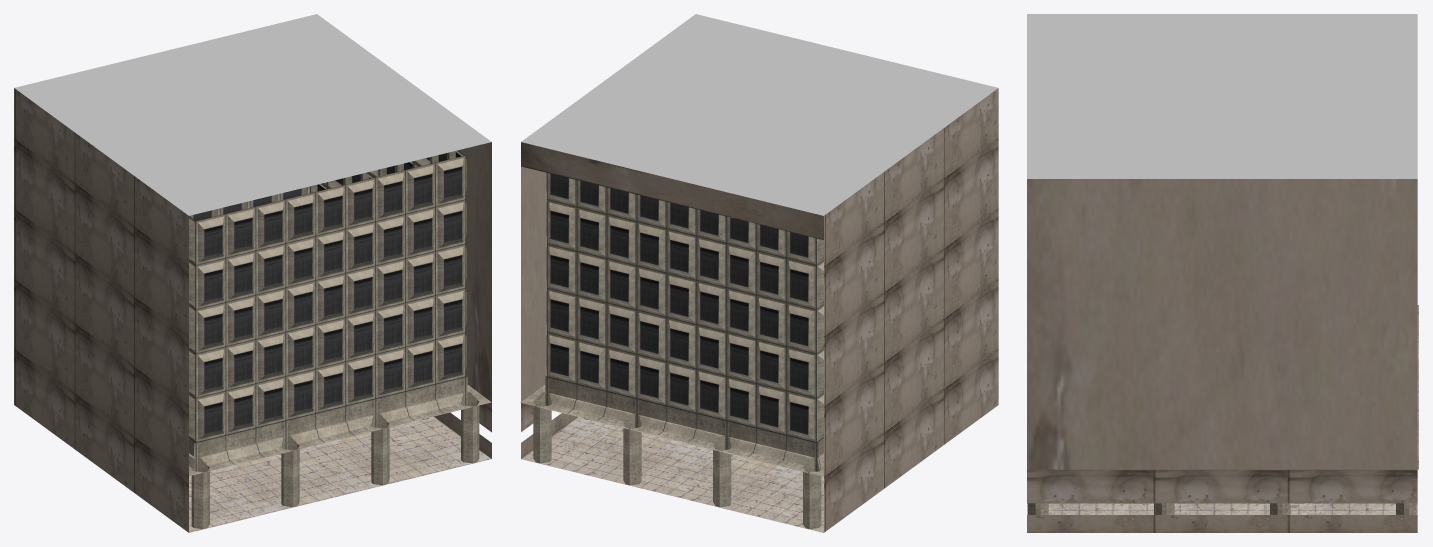
Rendered from de_chirico_room.fbx.
3 renders of one model, left to right at view 1: azimuth 30°, elevation 25°; view 2: azimuth 150°, elevation 25°; view 3: azimuth 270°, elevation 25°, orthographic. The views are drawn at different scales.
Visible parts, largest first — view 1: polySurface685; view 2: polySurface685; view 3: polySurface685.
Boxes of the visible parts, <box> form: polySurface685: <box>14,14,491,532</box>; polySurface685: <box>520,14,998,532</box>; polySurface685: <box>1027,14,1418,532</box>.
Bounding box in the file's own units: 10 × 10 × 10.04.
